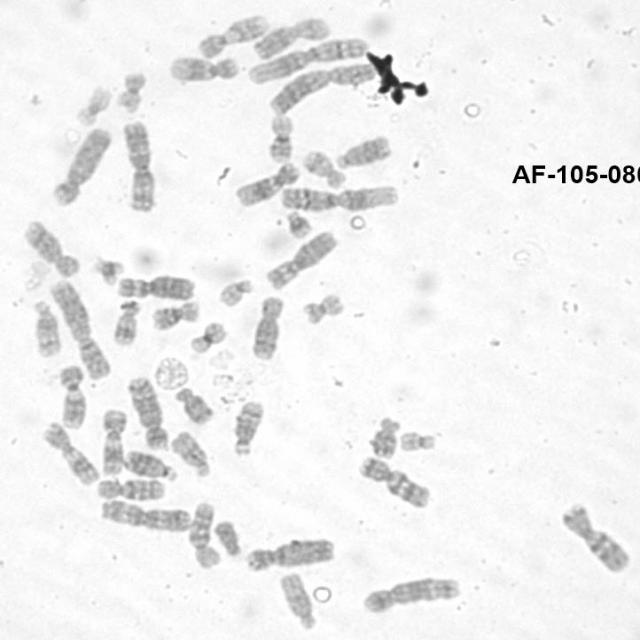A1: (246, 35, 370, 87), (278, 182, 400, 212)
A2: (46, 277, 113, 382), (266, 64, 378, 118)
A3: (120, 118, 158, 213), (100, 498, 193, 534)
B4: (50, 126, 111, 208), (244, 536, 338, 574)
B5: (361, 572, 459, 616), (128, 376, 170, 452)
C10: (185, 499, 222, 569), (95, 478, 167, 502)
C11: (39, 420, 101, 487), (99, 407, 129, 476)
C12: (232, 161, 302, 209), (168, 56, 238, 84)
C6: (262, 230, 340, 290), (116, 274, 198, 302)
C7: (560, 500, 632, 574), (355, 454, 431, 508)
C8: (23, 218, 82, 278), (250, 296, 286, 362)
C9: (195, 13, 270, 60), (56, 364, 88, 431)
D13: (334, 132, 393, 170), (123, 450, 179, 483)
D14: (231, 398, 268, 456), (32, 300, 64, 359)
D15: (276, 570, 318, 632), (170, 429, 213, 478)
E16: (150, 300, 202, 332), (268, 113, 295, 166)
E17: (304, 149, 348, 189), (112, 299, 144, 348)
E18: (172, 387, 215, 426), (371, 416, 404, 460)
F19: (73, 83, 114, 127), (185, 321, 229, 355)
F20: (113, 72, 150, 116), (300, 291, 346, 325)
G21: (88, 255, 128, 288), (282, 208, 316, 240)
G22: (218, 277, 252, 310), (397, 429, 438, 453)
X: (250, 15, 331, 62)
Y: (213, 519, 244, 558)
